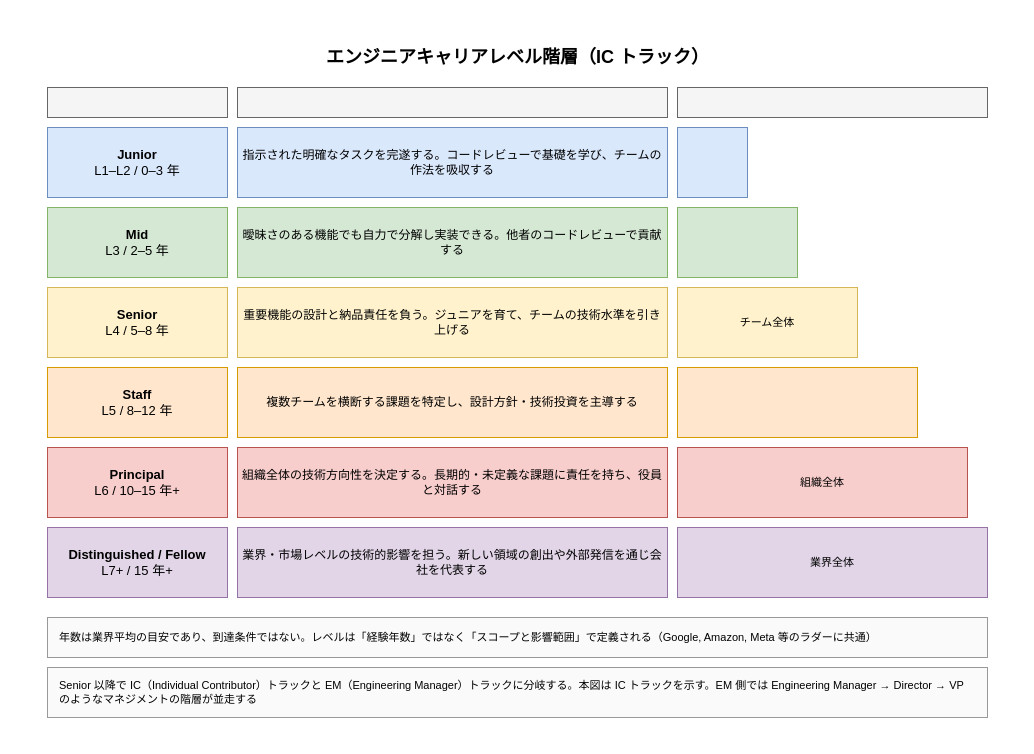
This 1034x754 diagram has some shape labels left out. The centre of each missing label's shape, as x and y in pixels:
"スコープ（影響の広がり）" belongs at (832,102).
"チーム内の機能" belongs at (737,242).
"レベル / 目安年数" belongs at (137,102).
"中心的な責務" belongs at (452,102).
"自分のタスク" belongs at (712,162).
"複数チーム横断" belongs at (797,402).
